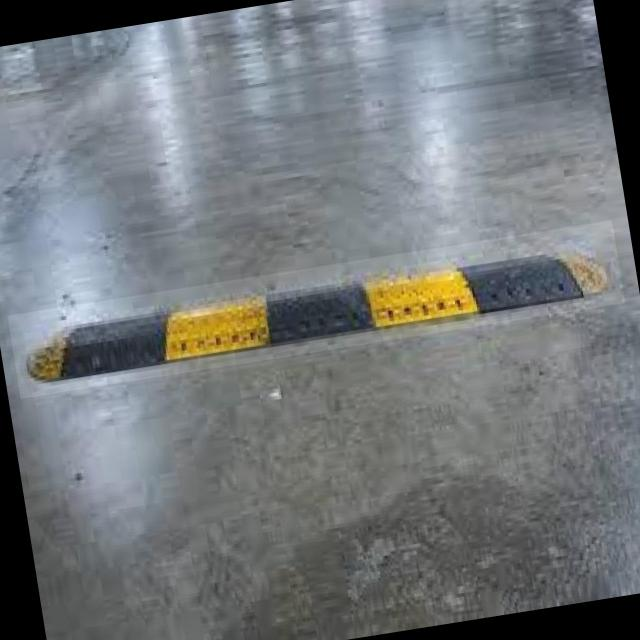bump: (22, 238, 596, 401)
